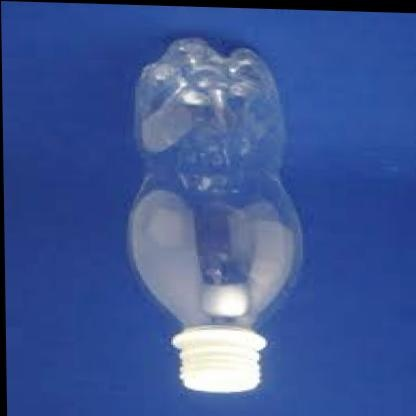trash: (129, 38, 301, 392)
